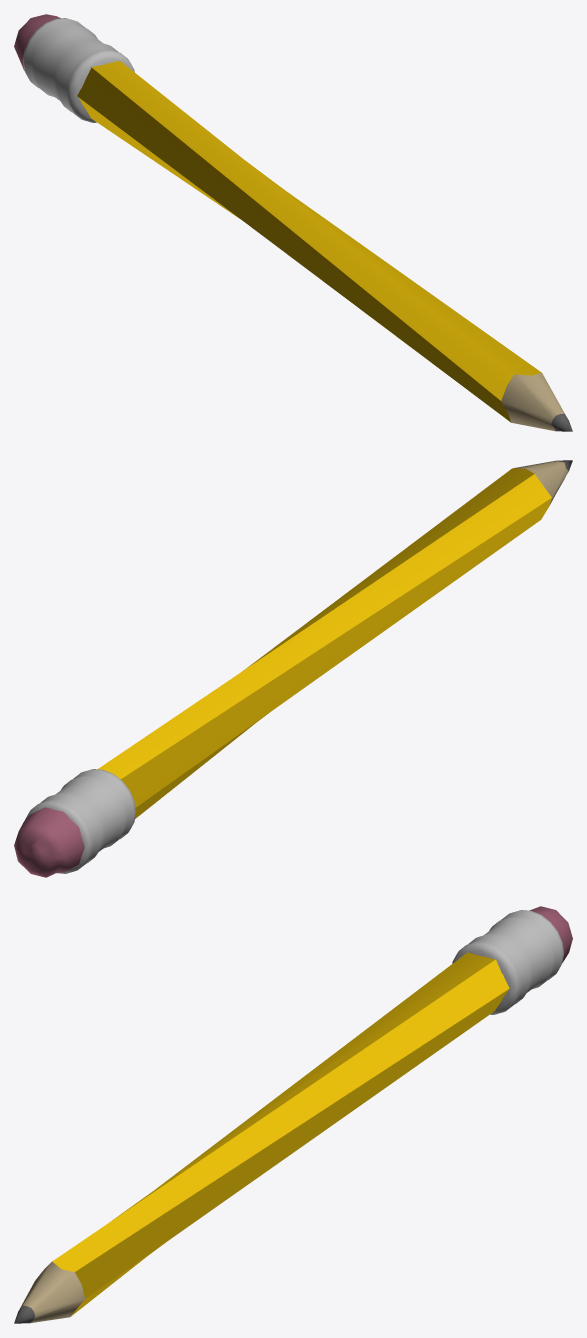
Rendered from pencil_high.fbx.
3 renders of one model, top to bottom at view 1: azimuth 30°, elevation 25°; view 2: azimuth 150°, elevation 25°; view 3: azimuth 330°, elevation 25°, orthographic.
Visible parts, largest first — view 1: pencil_opt:pencil; view 2: pencil_opt:pencil; view 3: pencil_opt:pencil.
Boxes of the visible parts, x1,y1,x2,y2 form: pencil_opt:pencil: [14, 14, 572, 431]; pencil_opt:pencil: [14, 460, 572, 877]; pencil_opt:pencil: [14, 906, 572, 1323].
Bounding box in the file's own units: 6.39 × 6.38 × 88.88.
